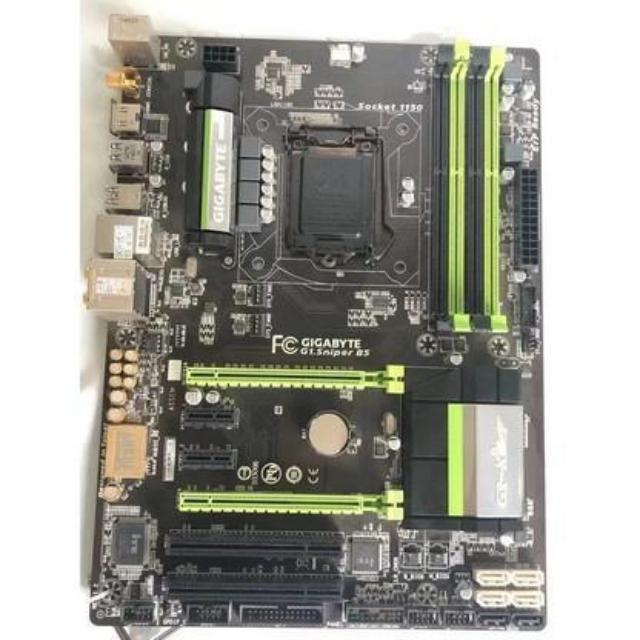Mainboard: (62, 10, 564, 627)
